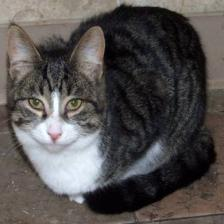cat: (5, 21, 113, 152)
